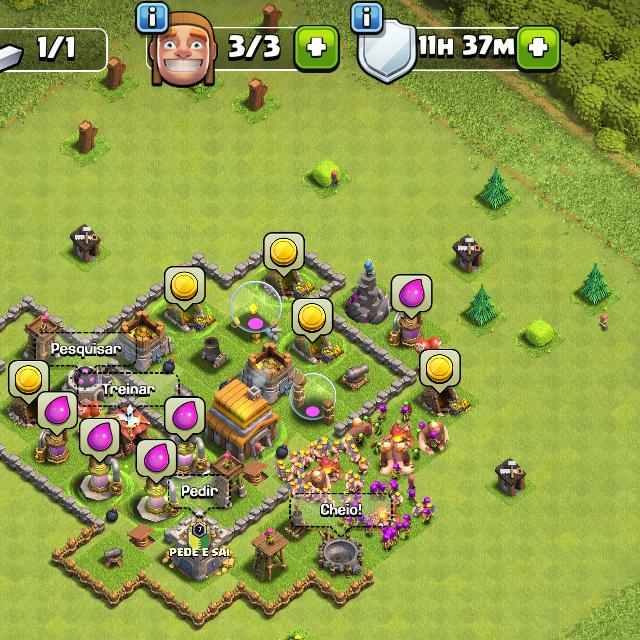Elixir: (391, 274, 433, 320), (165, 396, 205, 442), (81, 418, 120, 463), (138, 438, 175, 485), (39, 391, 77, 435)
coin: (263, 232, 305, 276), (165, 266, 205, 311), (8, 360, 48, 405), (292, 298, 332, 342), (420, 350, 461, 392)
